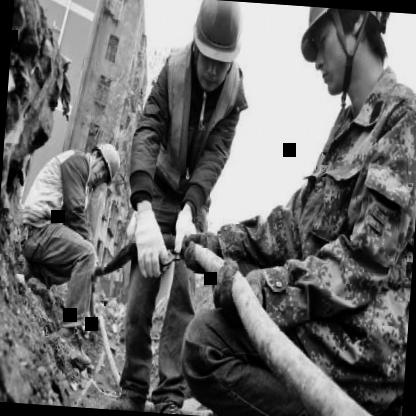helmet: (289, 6, 391, 113), (186, 0, 249, 101), (84, 138, 121, 190)
